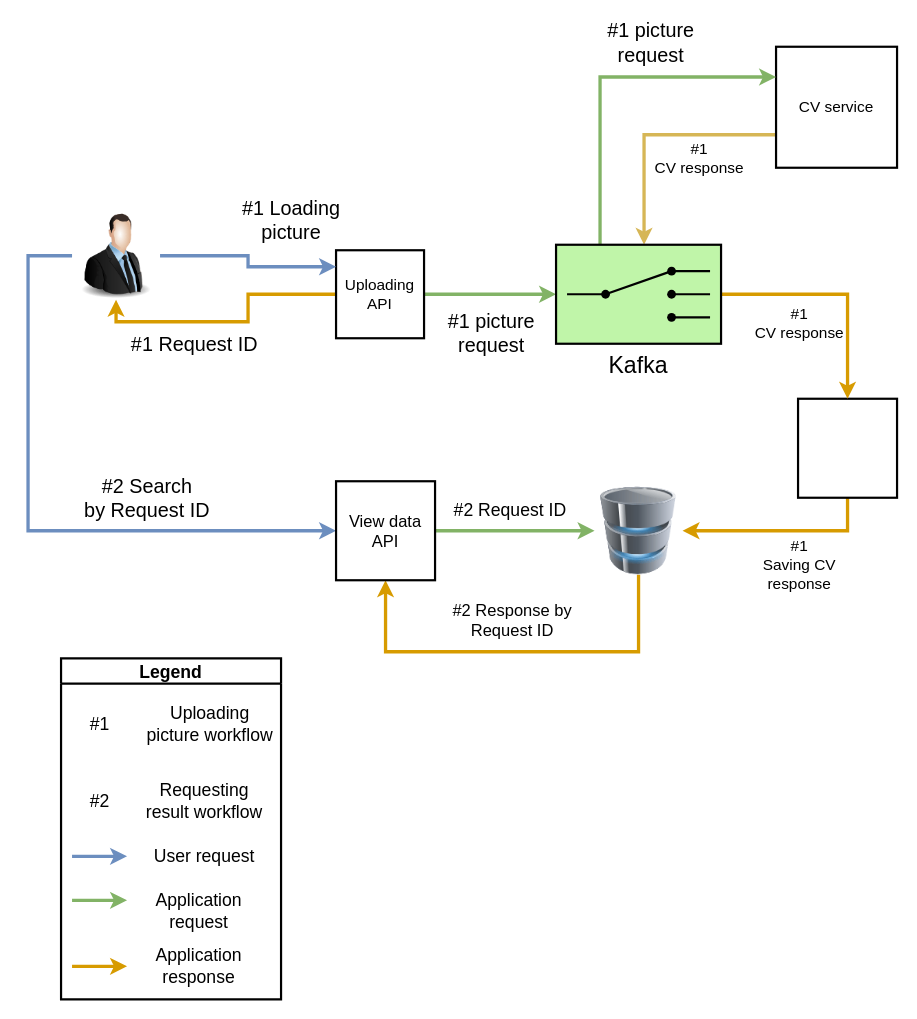
Image size: 917x1019. Some labels were removed from this diagram. Here are the shapes that lost their labels. From the top down, the centre of each, then its label:
the point at 847,447: Data consumer
the point at 638,530: PostgreSQL
